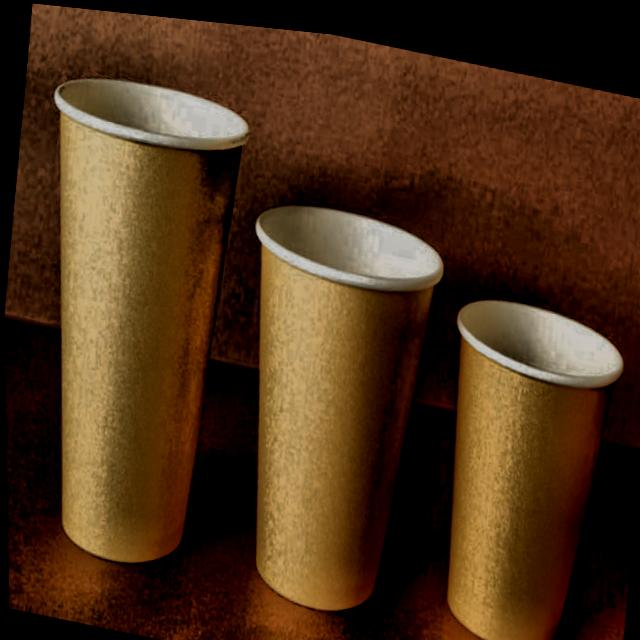Cup: (4, 53, 256, 589), (212, 175, 454, 640), (418, 253, 636, 640)
